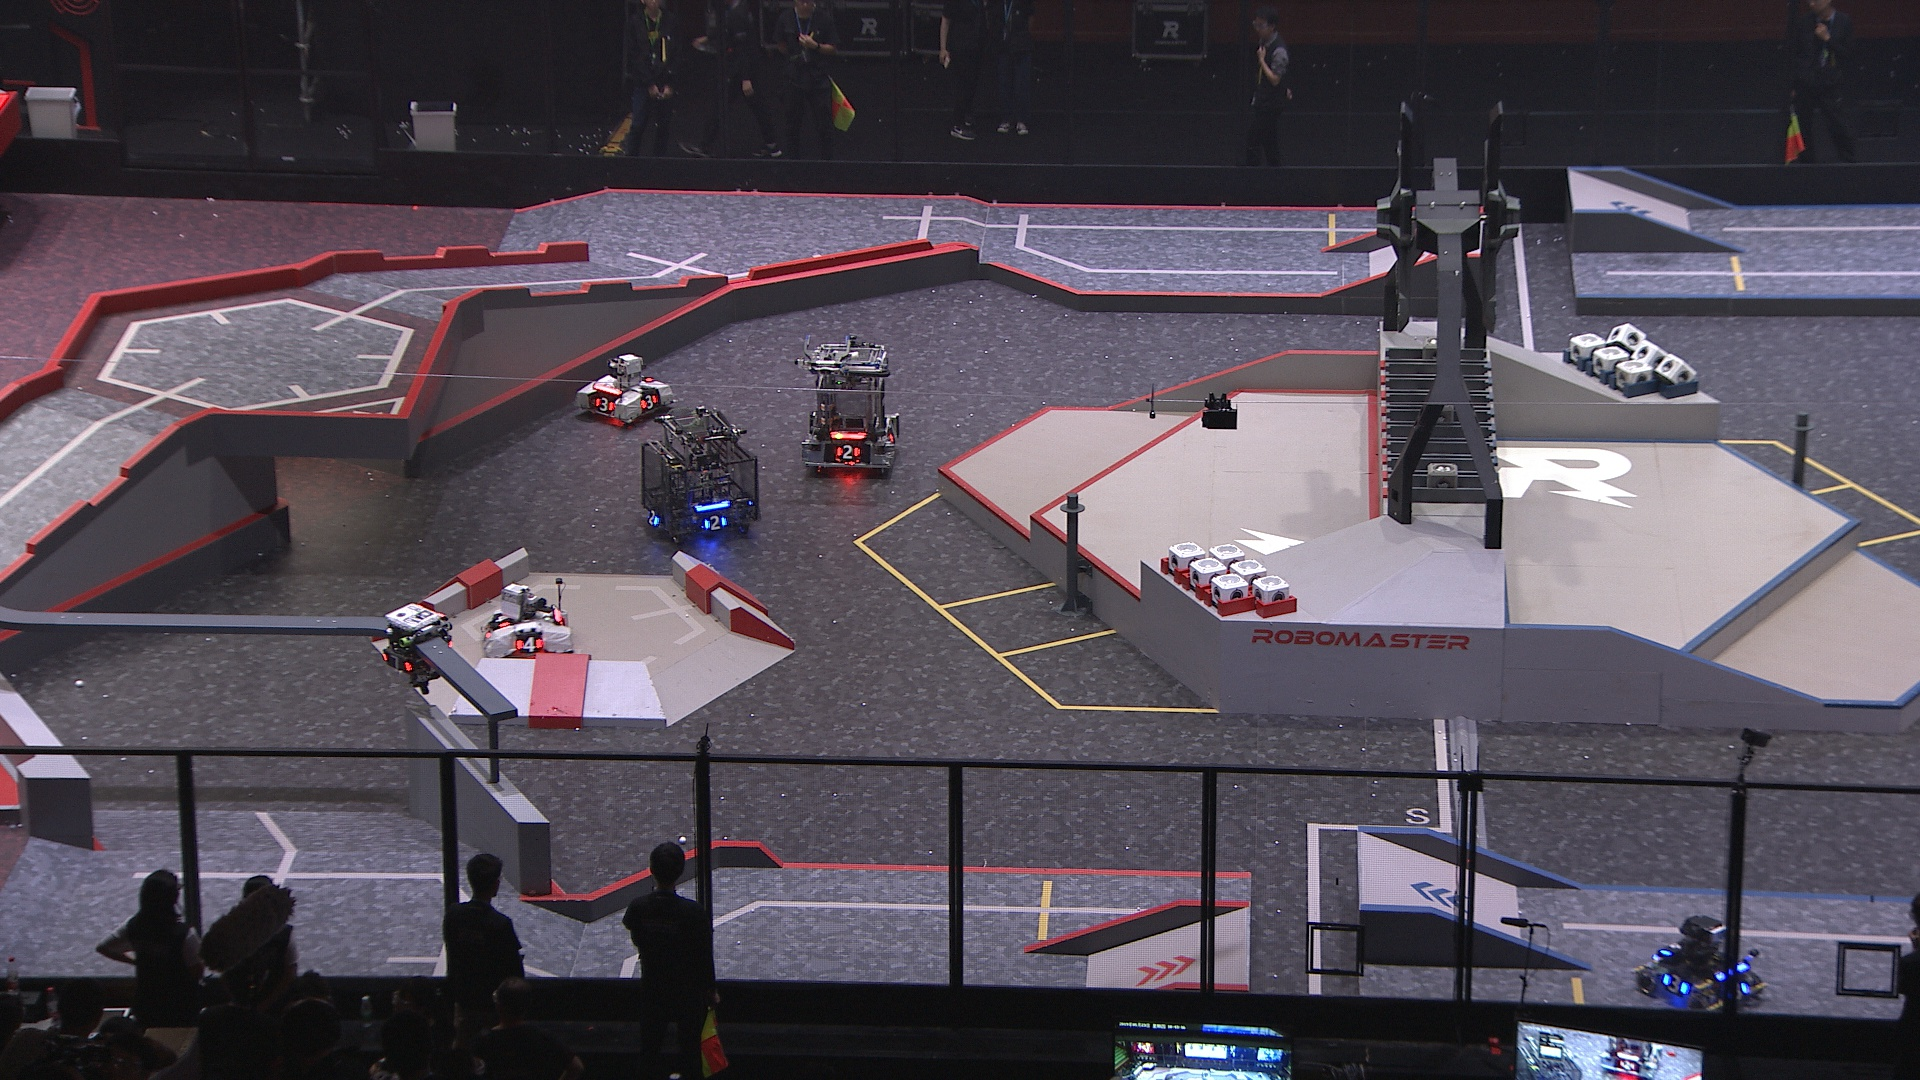armor: (377, 647, 418, 679), (1659, 969, 1691, 1001), (1722, 975, 1750, 1004), (1662, 938, 1691, 963), (831, 440, 861, 462), (512, 633, 546, 651), (638, 389, 665, 413), (700, 512, 727, 531), (591, 396, 615, 417), (884, 425, 901, 447), (644, 508, 662, 527), (495, 608, 512, 628)
car: (636, 406, 757, 550), (793, 335, 906, 479), (1636, 910, 1768, 1017), (571, 351, 679, 427), (477, 575, 571, 662)
watcher: (375, 599, 462, 700)
